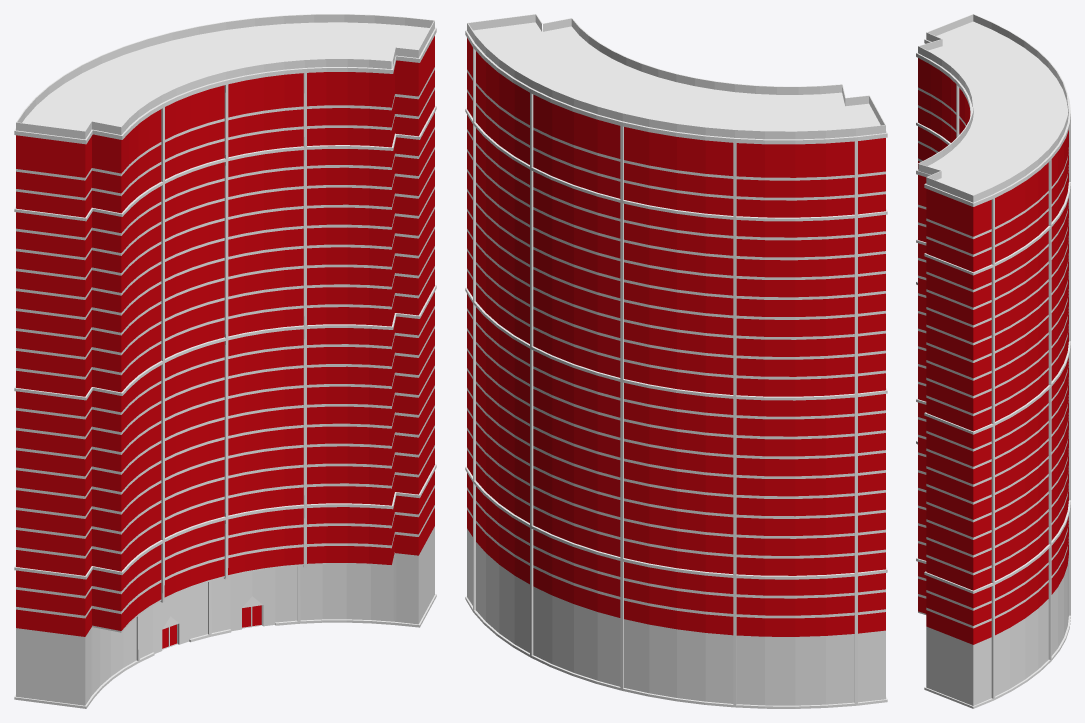
The model's file is SM_skyscraper_03.glb.
The picture shows the model from 3 angles, left to right: view 1: azimuth 30°, elevation 25°; view 2: azimuth 150°, elevation 25°; view 3: azimuth 270°, elevation 25°; orthographic projection. The views are drawn at different scales.
Visible parts, largest first — view 1: skyscraper_03; view 2: skyscraper_03; view 3: skyscraper_03.
Boxes of the visible parts, x1,y1,x2,y2 form: skyscraper_03: (14,14,436,708); skyscraper_03: (465,14,887,708); skyscraper_03: (916,14,1070,708).
Bounding box in the file's own units: 56 × 73 × 20.
